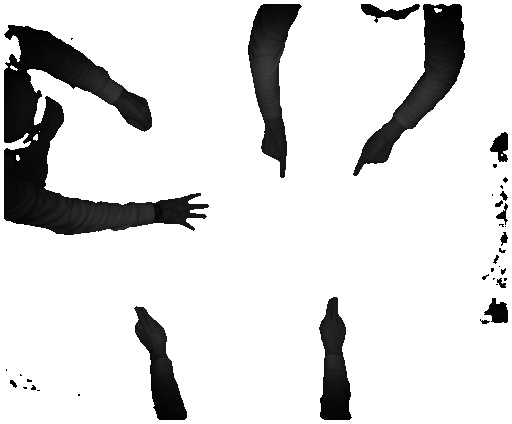fist: (118, 94, 151, 135)
hand: (128, 304, 175, 355), (158, 192, 215, 231), (312, 296, 351, 349), (352, 130, 395, 175), (256, 128, 287, 183)
